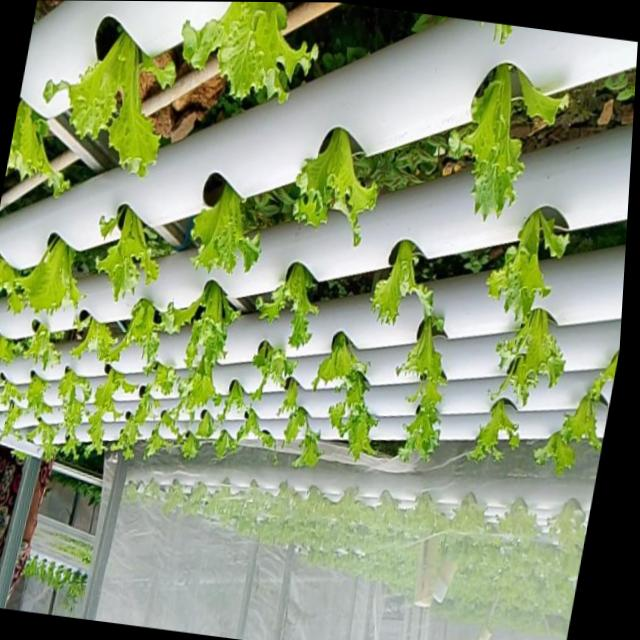Baby: (39, 36, 171, 180), (177, 2, 313, 104), (446, 65, 519, 221), (289, 128, 375, 246), (483, 209, 564, 322), (394, 307, 444, 460), (187, 174, 257, 272), (491, 308, 561, 405), (92, 205, 157, 300), (14, 237, 81, 318), (95, 298, 171, 369), (253, 262, 315, 348), (368, 240, 429, 324), (327, 372, 373, 459), (554, 377, 603, 450), (234, 340, 293, 399), (309, 331, 366, 388), (464, 398, 516, 460), (54, 368, 88, 453), (175, 356, 219, 418), (24, 421, 55, 460), (22, 375, 47, 418), (148, 364, 173, 396), (0, 401, 20, 436), (153, 408, 176, 438)
